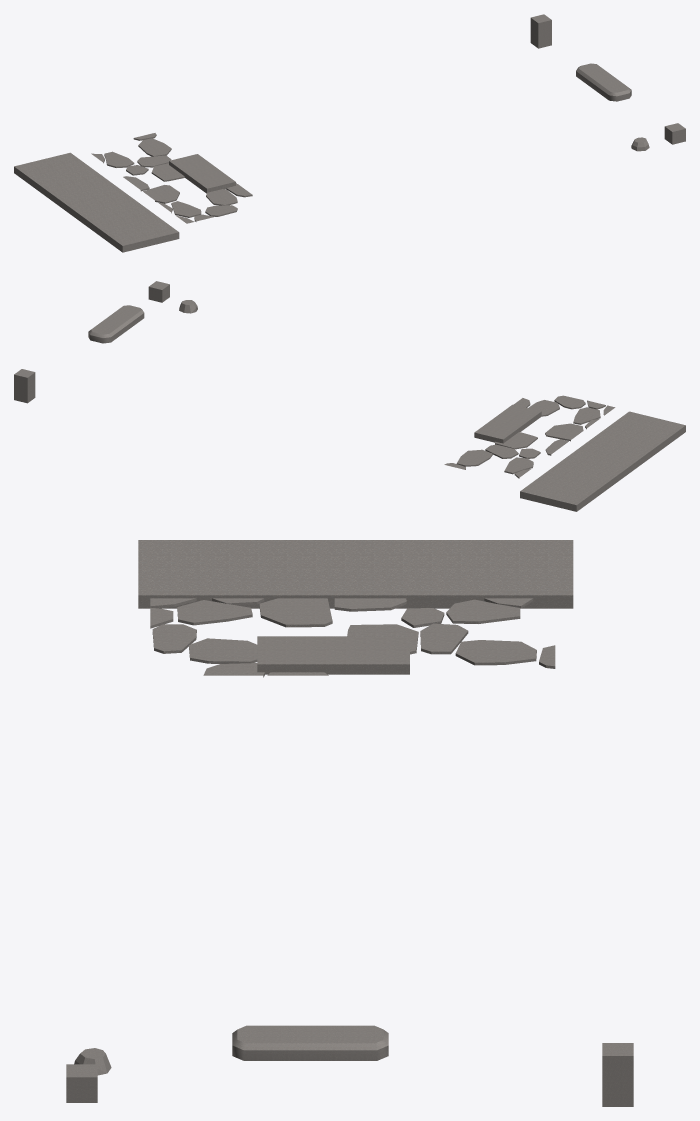
The model's file is kd_stage_135d18_4_31_bounded.glb.
3 views of the same model, one above another, from view 1: azimuth 30°, elevation 25°; view 2: azimuth 150°, elevation 25°; view 3: azimuth 270°, elevation 25° (orthographic). The views are drawn at different scales.
Parts seen in each view (by area): view 1: kd_stage_135d18_4_31_bounded; view 2: kd_stage_135d18_4_31_bounded; view 3: kd_stage_135d18_4_31_bounded.
Part boxes in pixels (x1,y1,x2,y2): kd_stage_135d18_4_31_bounded: [14, 14, 685, 252]; kd_stage_135d18_4_31_bounded: [14, 281, 685, 511]; kd_stage_135d18_4_31_bounded: [66, 540, 633, 1106].
Size of the model in its own units: 9.65 by 0.437 by 4.35.
Materials: 1 (1 with a texture image).
